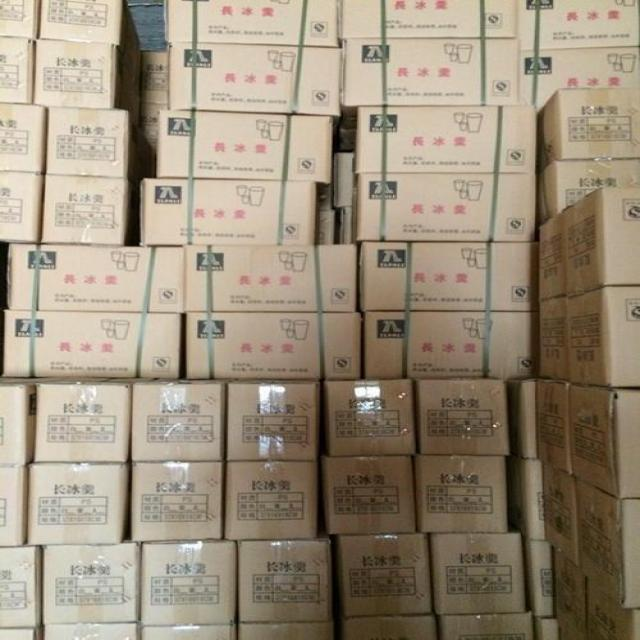box: (178, 308, 368, 388), (0, 307, 185, 388), (361, 306, 542, 386), (349, 103, 544, 177), (353, 235, 539, 311), (0, 240, 188, 313), (353, 175, 538, 247), (185, 242, 363, 314), (136, 173, 312, 245), (349, 42, 533, 107), (154, 116, 340, 180), (163, 46, 336, 114), (527, 186, 640, 290), (538, 289, 640, 383), (31, 372, 138, 460), (138, 541, 242, 631), (39, 542, 145, 629), (135, 377, 231, 472), (237, 531, 331, 626), (30, 462, 134, 547), (331, 532, 432, 619), (127, 454, 226, 542), (432, 531, 529, 620), (576, 475, 640, 608), (565, 382, 640, 495), (318, 377, 420, 459), (334, 0, 524, 44), (156, 0, 340, 45), (226, 457, 325, 540), (422, 380, 524, 458), (33, 170, 131, 250), (541, 81, 640, 159), (324, 457, 420, 536), (230, 381, 319, 466), (40, 0, 145, 70), (33, 44, 131, 117), (419, 458, 509, 535), (35, 105, 129, 171)
